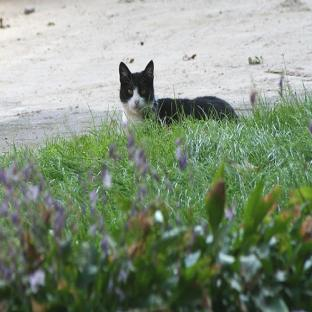Animal: (120, 60, 237, 124)
